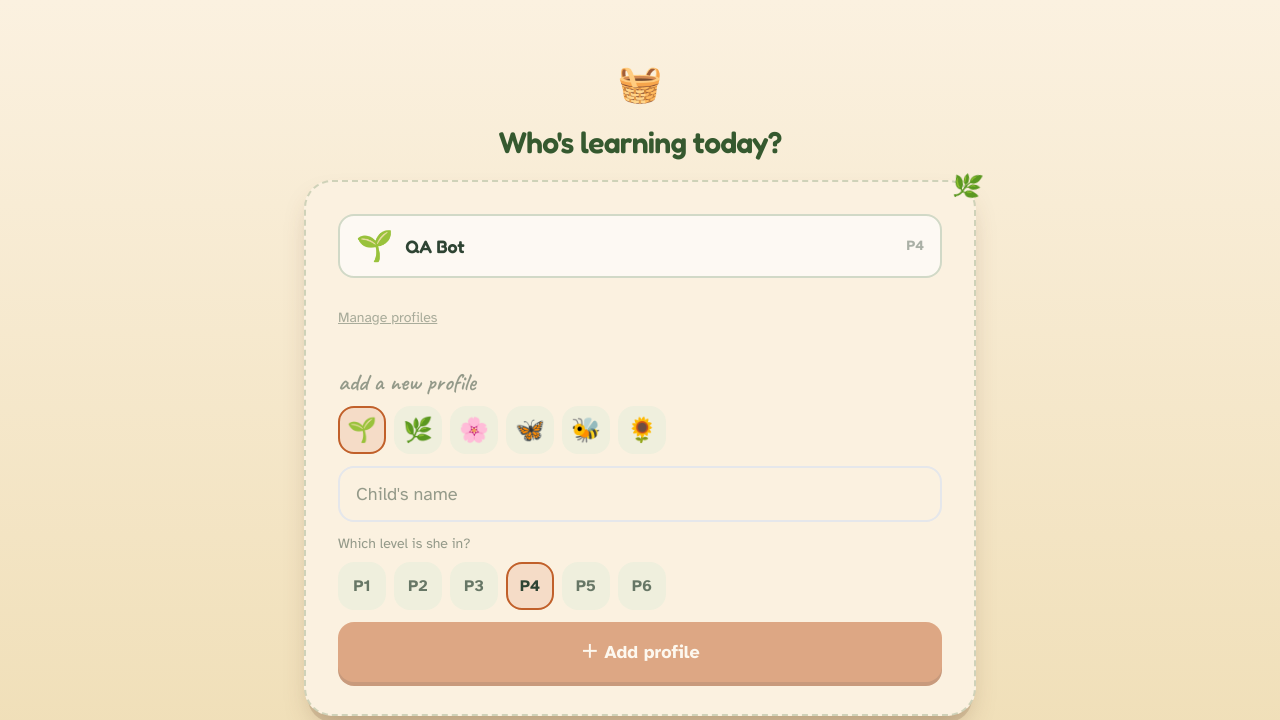
Scenario: ChildPicker › regression: a delete control is hidden until 'Manage profiles' is tapped, so a stray tap on the picker can't wipe a profile
Expected: the text "QA Bot" is shown, [405,232,465,260]
Click the button "Manage profiles". click: (388, 318)
box: [338,294,437,342]
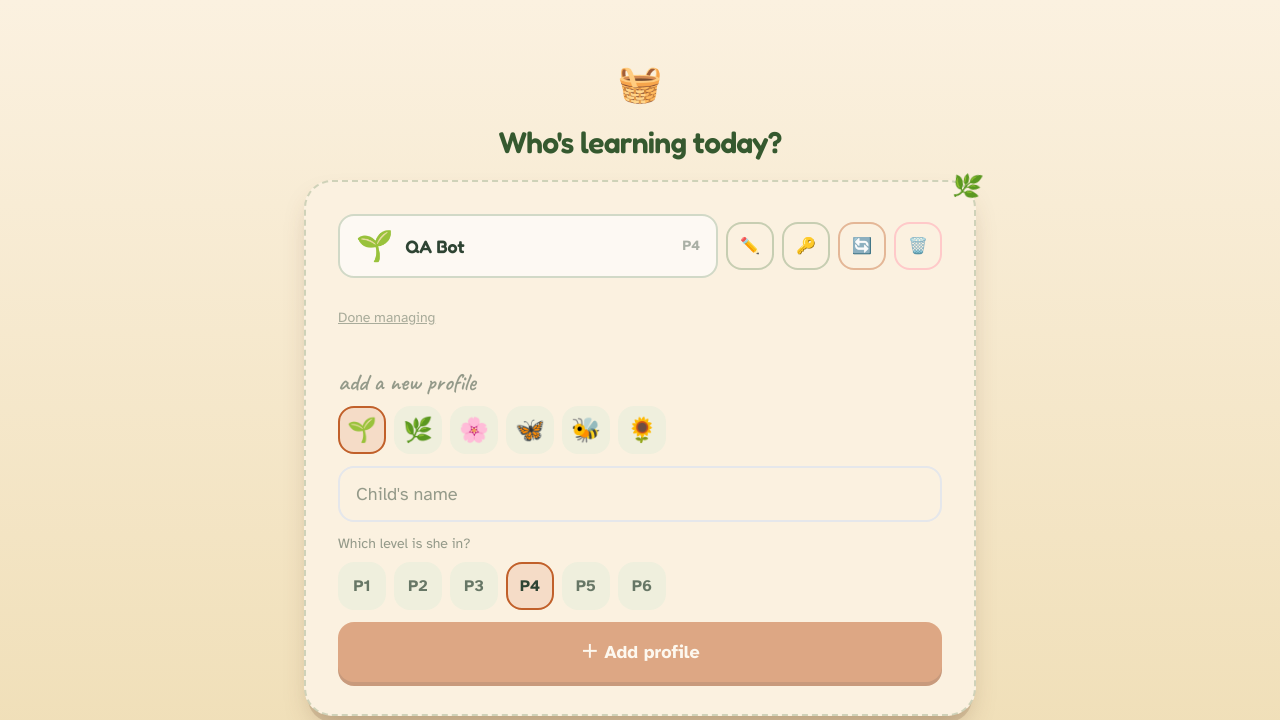
Result: the button named "delete qa bot" is shown at [894,222,942,270]
